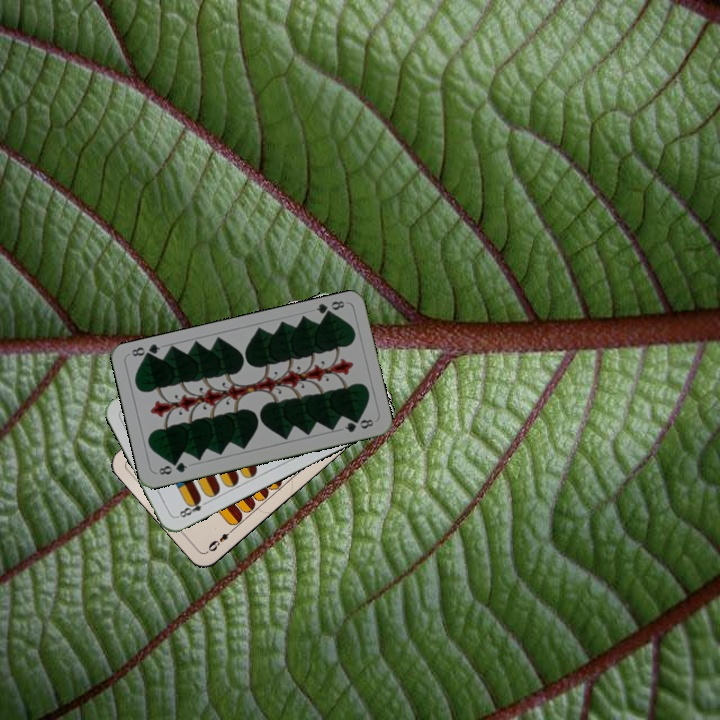E8: (173, 494, 211, 520)
E9: (204, 524, 237, 554)
G8: (312, 296, 347, 320), (153, 458, 190, 477)
